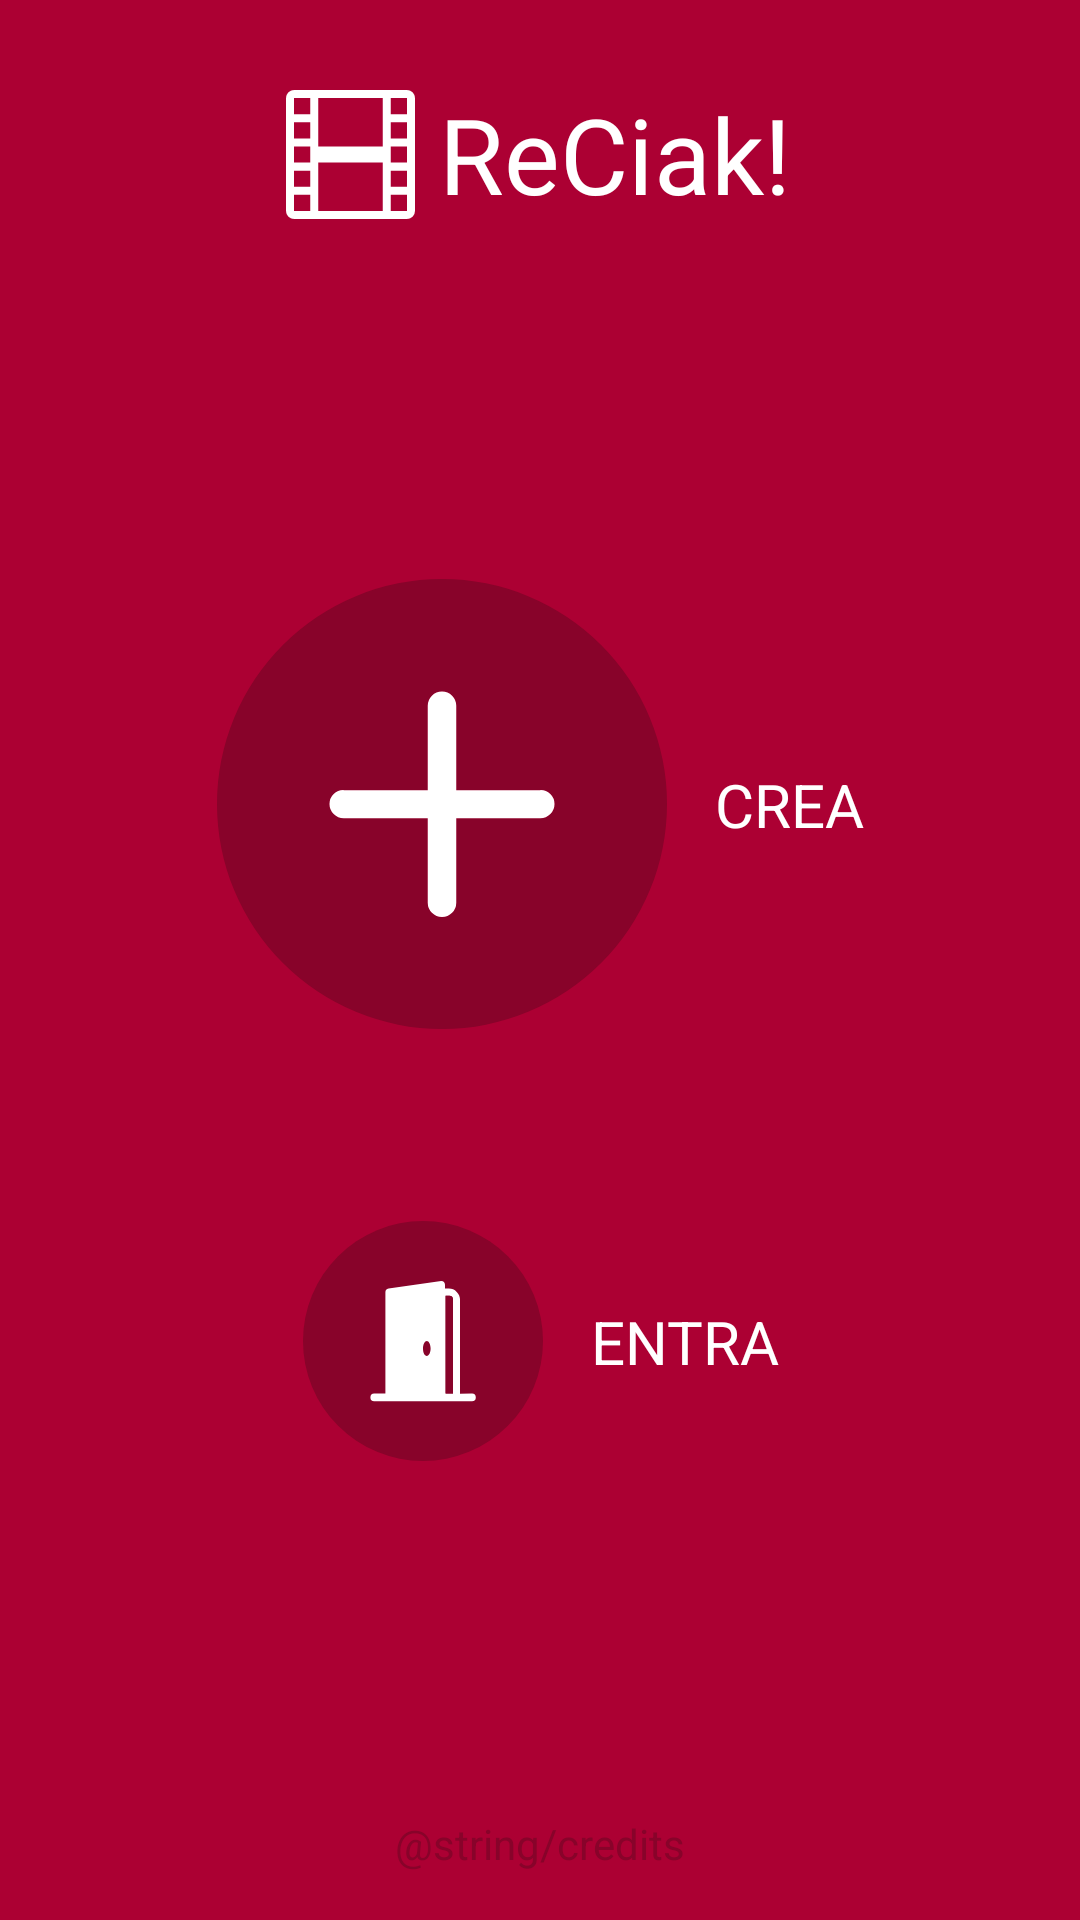

Point at icon controls on the screen. Image size 1080x1920, points as [x,y].
film: [350,154]
